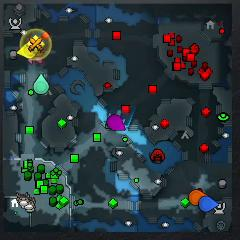Other: (21, 29, 51, 58)
p1: (198, 196, 219, 211)
p2: (34, 74, 49, 94)
p3: (107, 115, 126, 131)
p4: (16, 43, 36, 58)
p5: (189, 190, 208, 206)
x1: (28, 56, 43, 64)
x3: (108, 110, 126, 123)
